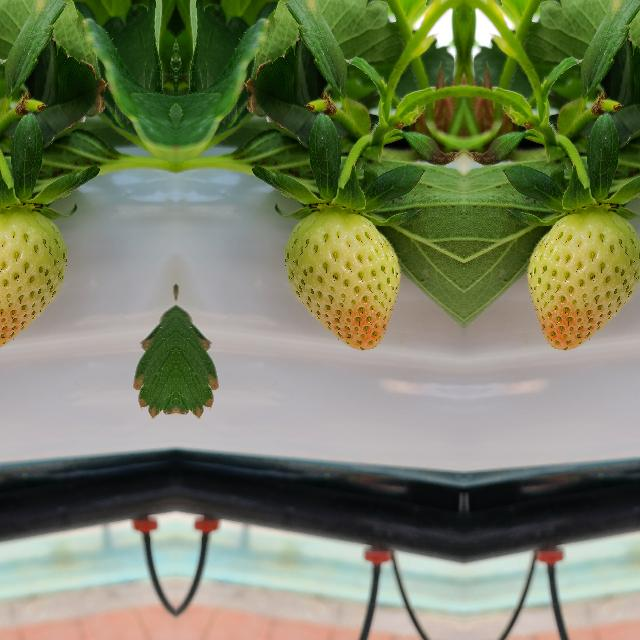Health_50: (283, 210, 401, 350), (525, 210, 640, 350), (0, 210, 67, 350)
